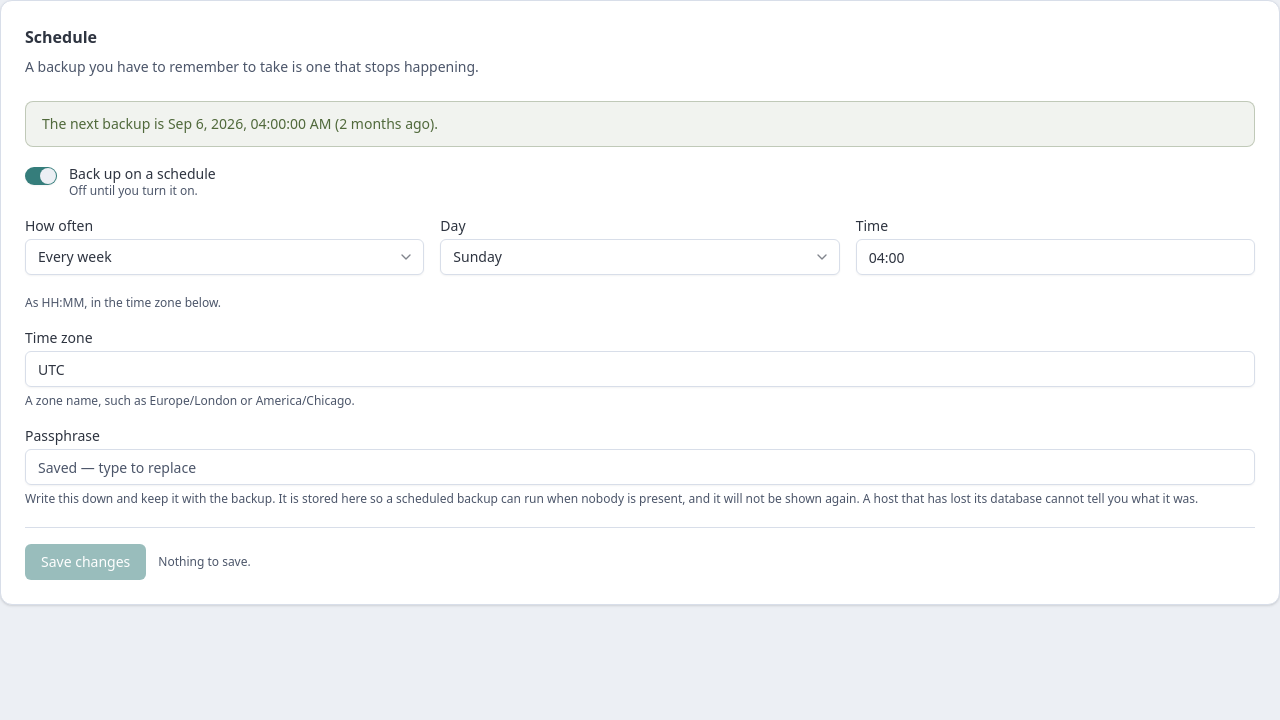
Test case: the backup schedule › has nothing to save when the passphrase box is the only thing touched and left blank
Type "abc" into the password field labelled "Passphrase" at x=640, y=467, box x1=25 y1=449 x2=1255 y2=485
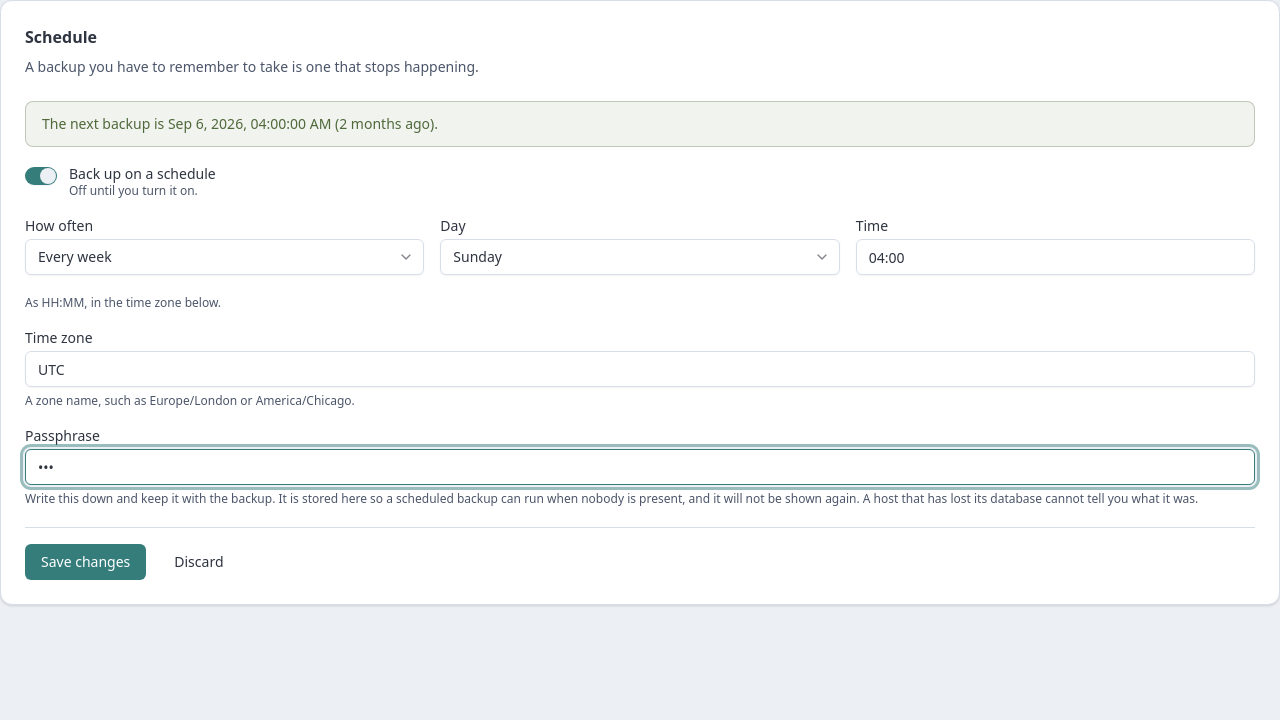
Clear the password field labelled "Passphrase" at x=640, y=467, box x1=25 y1=449 x2=1255 y2=485
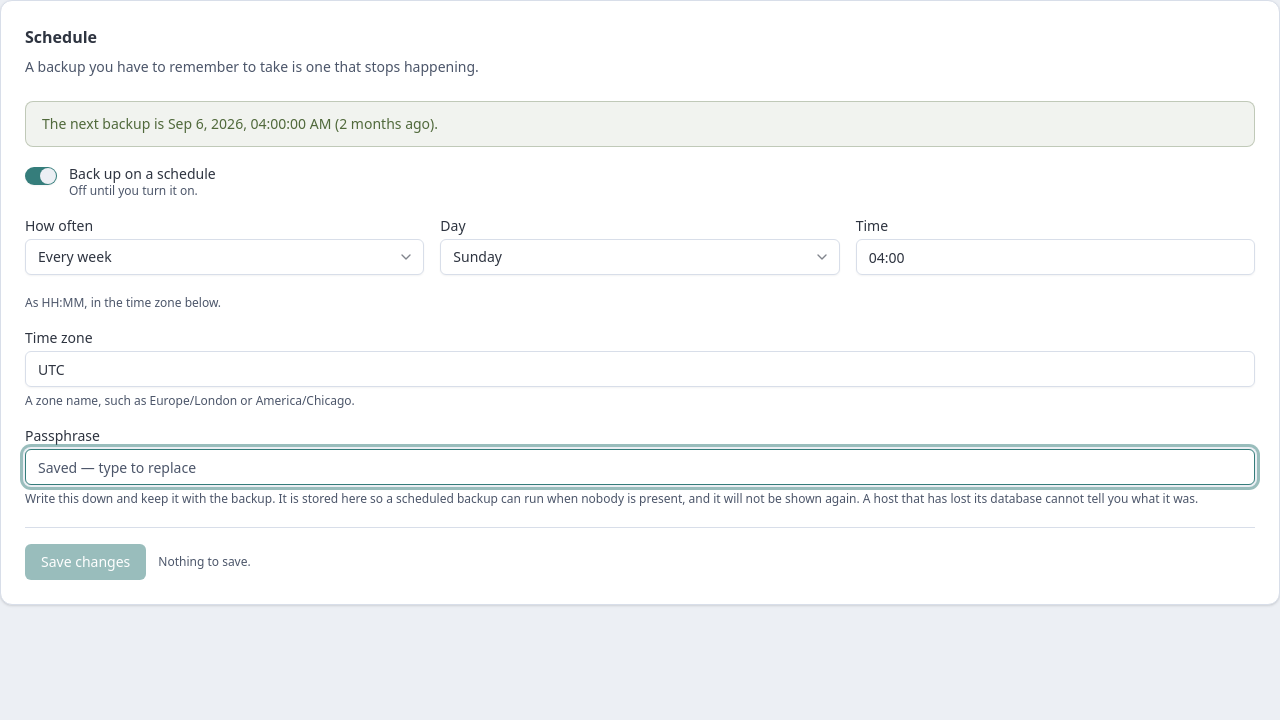
expect the button "Save changes" is disabled: met, box x1=25 y1=544 x2=146 y2=580
